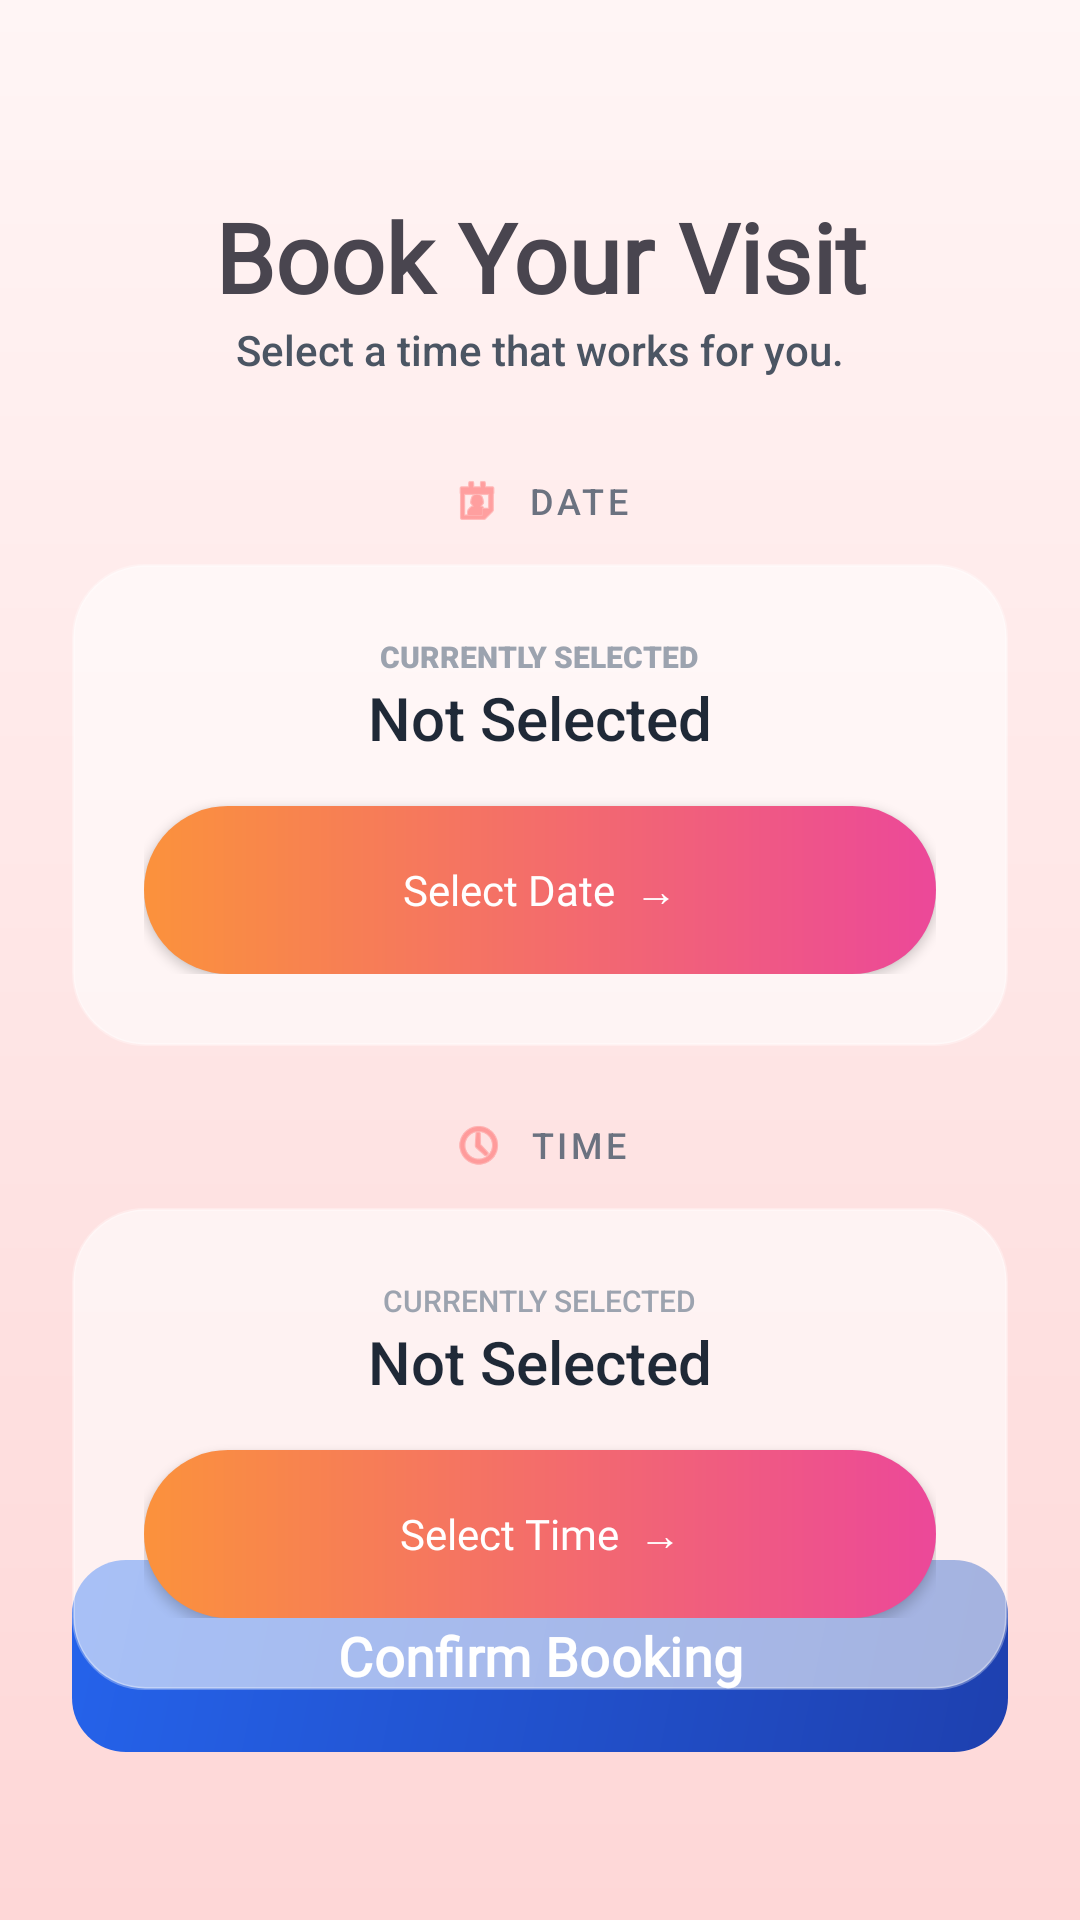

Icon bounding boxes for this 1080x1920 phone screenshot, format [x1=x1, y1=y1, x2=x2, y2=y2]:
calendar: [x1=460, y1=481, x2=494, y2=520]
recent history: [x1=459, y1=1126, x2=498, y2=1165]
